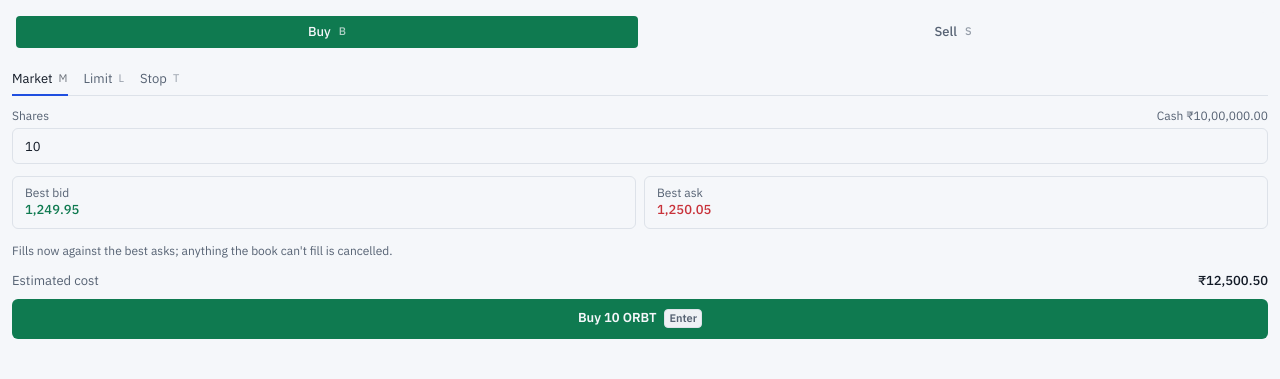
Test case: OrderTicket › places a market buy and confirms it in plain words
Click the button "Buy 10 ORBT Enter". click: (640, 319)
box: [12,299,1268,339]
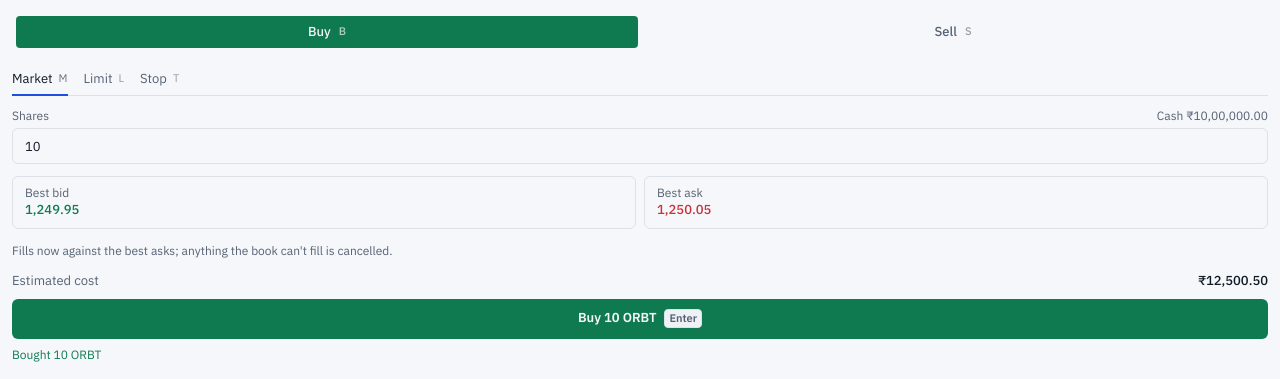
Now the text "Bought 10 ORBT" is shown, box [12,347,101,362]
